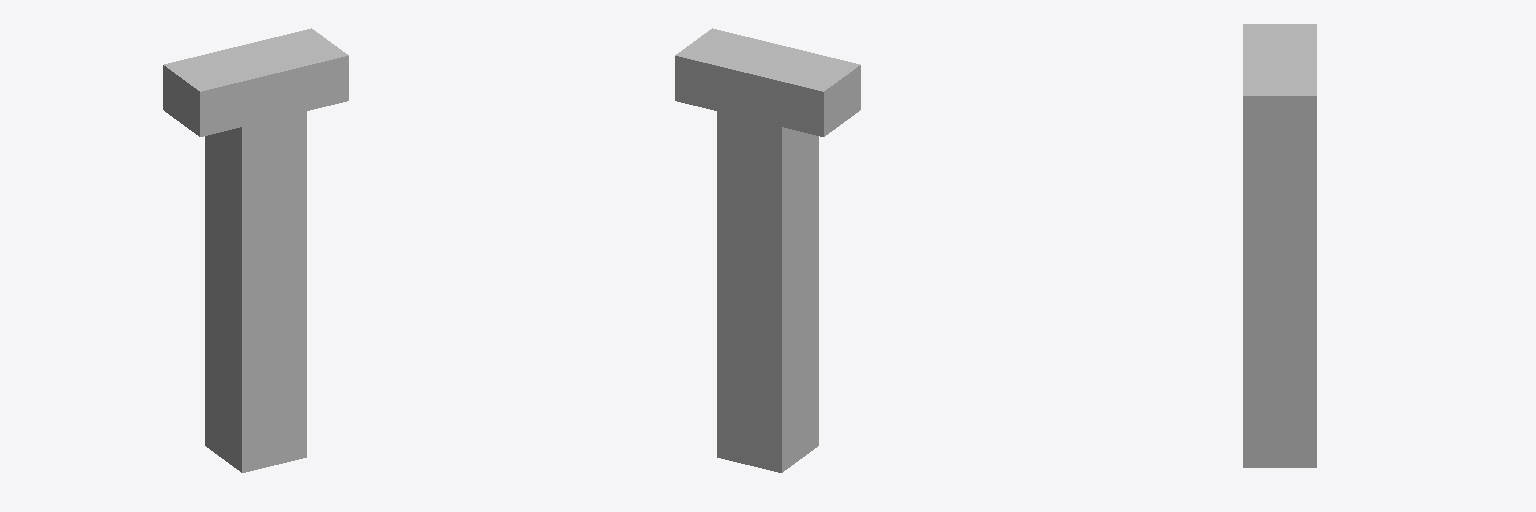
File: arrow.obj
3 renders of one model, left to right at view 1: azimuth 30°, elevation 25°; view 2: azimuth 150°, elevation 25°; view 3: azimuth 270°, elevation 25°, orthographic.
Parts seen in each view (by area): view 1: Cube, Cube.001; view 2: Cube, Cube.001; view 3: Cube, Cube.001.
Part boxes in pixels (left/top/right/bottom): Cube: left=205, top=66, right=306, bottom=472; Cube.001: left=163, top=28, right=348, bottom=136; Cube: left=717, top=66, right=818, bottom=472; Cube.001: left=675, top=28, right=860, bottom=136; Cube: left=1243, top=142, right=1316, bottom=467; Cube.001: left=1243, top=24, right=1316, bottom=141.
Bounding box in the file's own units: 4.63 × 11.64 × 2.